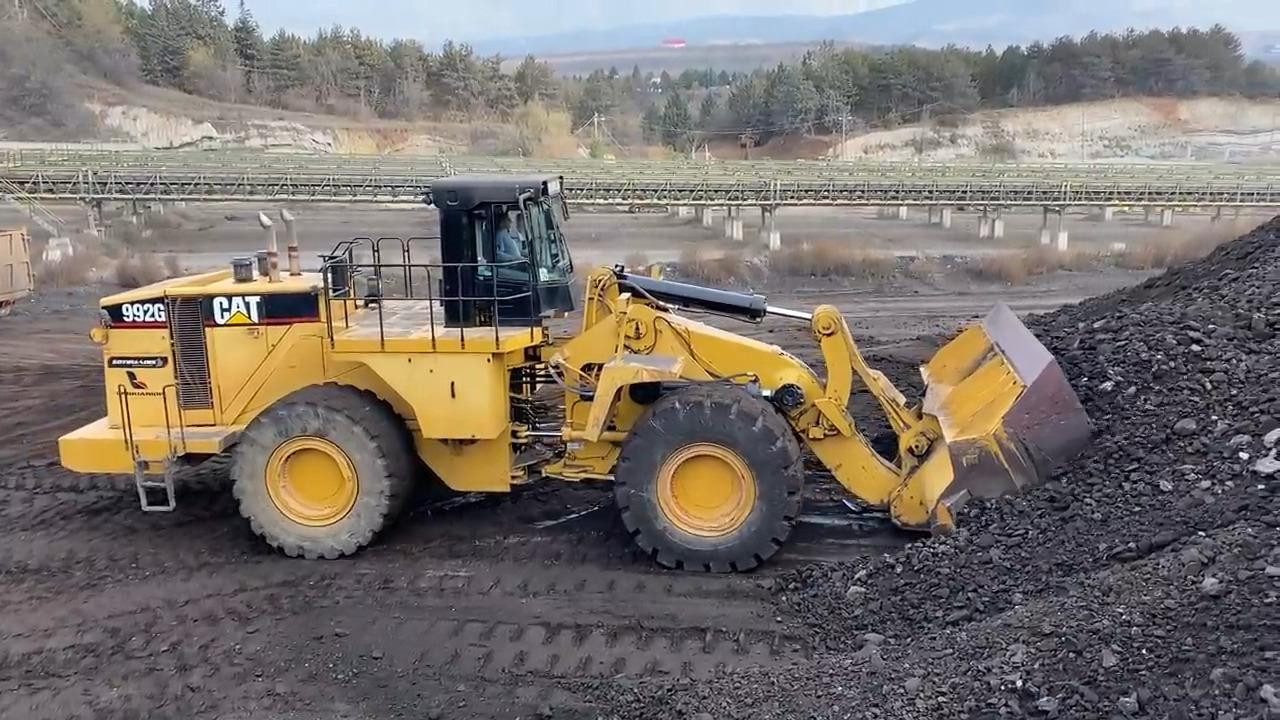dump truck: (0, 212, 41, 330)
wheel loader: (61, 169, 1103, 580)
